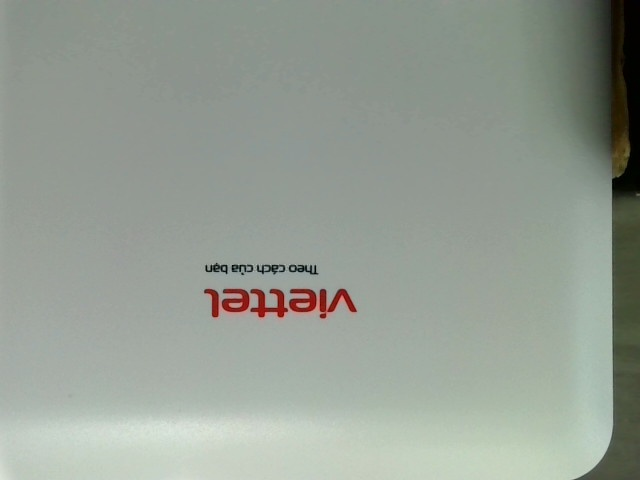AY_Viettel: (203, 257, 358, 321)
